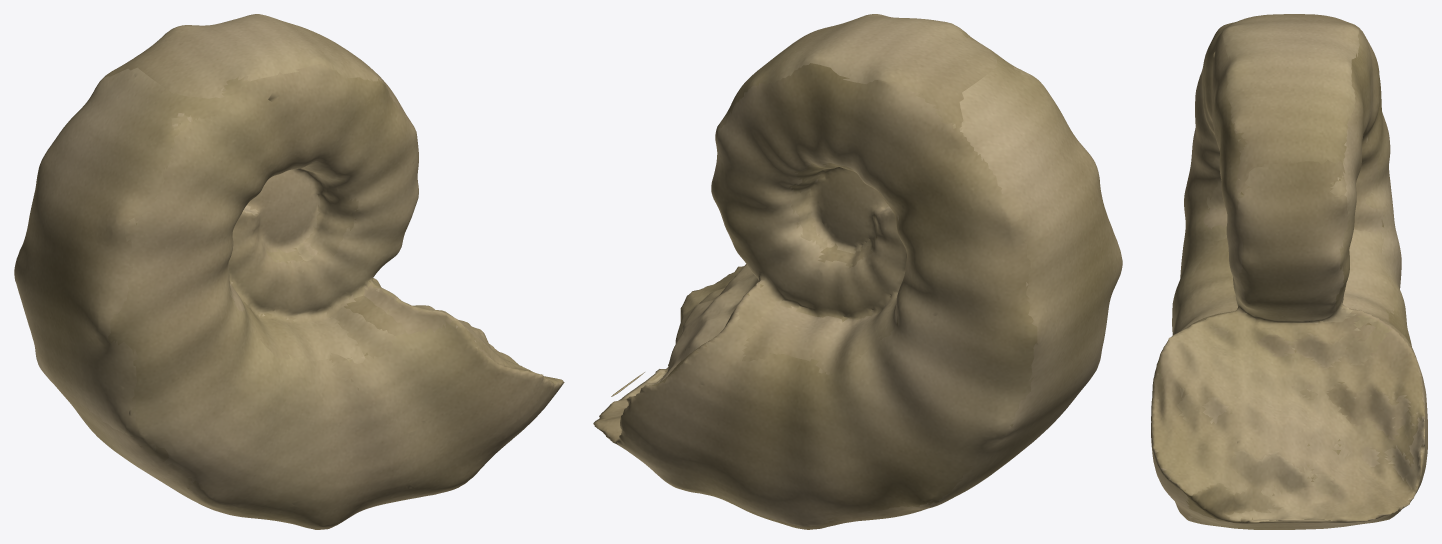
The picture shows the model from 3 angles, left to right: view 1: azimuth 30°, elevation 25°; view 2: azimuth 150°, elevation 25°; view 3: azimuth 270°, elevation 25°; orthographic projection. The views are drawn at different scales.
Parts seen in each view (by area): view 1: Tainoceras monilifer | fossil study; view 2: Tainoceras monilifer | fossil study; view 3: Tainoceras monilifer | fossil study.
Boxes of the visible parts, box(x1,y1,x2,y2) form: Tainoceras monilifer | fossil study: box(14, 14, 564, 529); Tainoceras monilifer | fossil study: box(593, 14, 1122, 529); Tainoceras monilifer | fossil study: box(1151, 14, 1427, 529).
Bounding box in the file's own units: 0.9962 × 0.9909 × 0.5714.
Materials: 1 (1 with a texture image).
